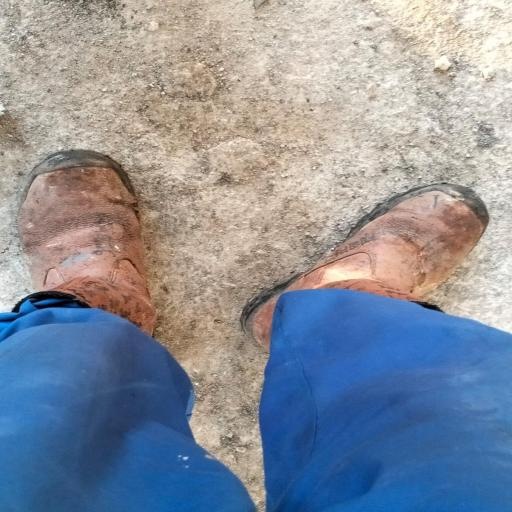safety_shoe: (254, 176, 477, 354), (18, 152, 168, 339)
